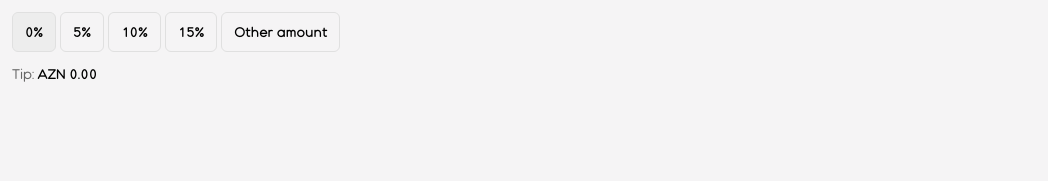
Test: TipSelector › speaks English when the guest switches the language (#215)
The width and height of the screenshot is (1048, 181).
Click the radio button labelled "Other amount" at (281, 32), box [221,12,340,52]
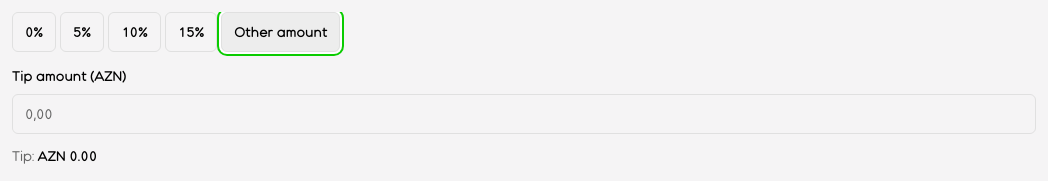
Now the field labelled "Tip amount (AZN)" is shown, box [12,94,1036,134]
